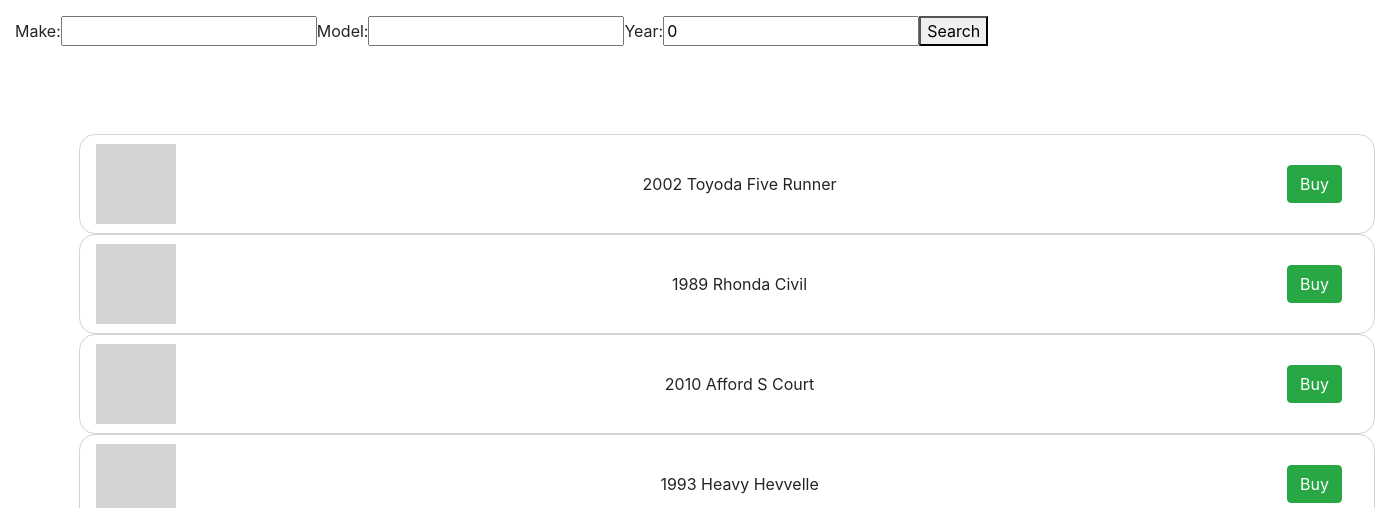
Scenario: Search › should limit list to make searched for
This screenshot has width=1392, height=525.
Type "TOY" into the field with test id "make-search" at point(189, 31), box [61,16,317,46]
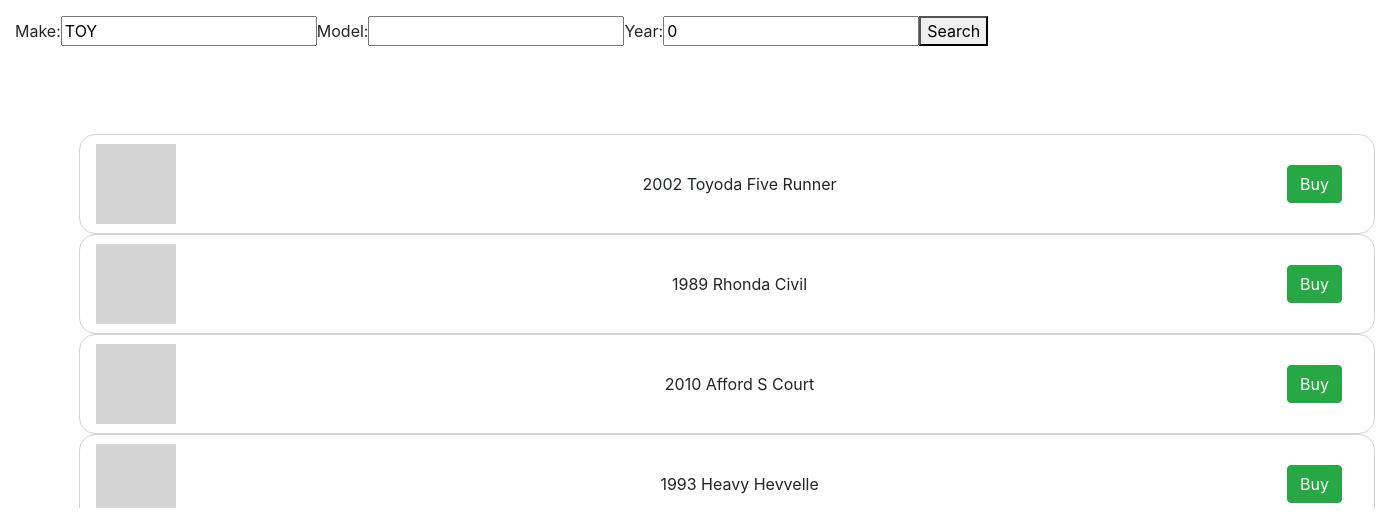
Click the button "Search" at point(954, 31), box [919,16,988,46]
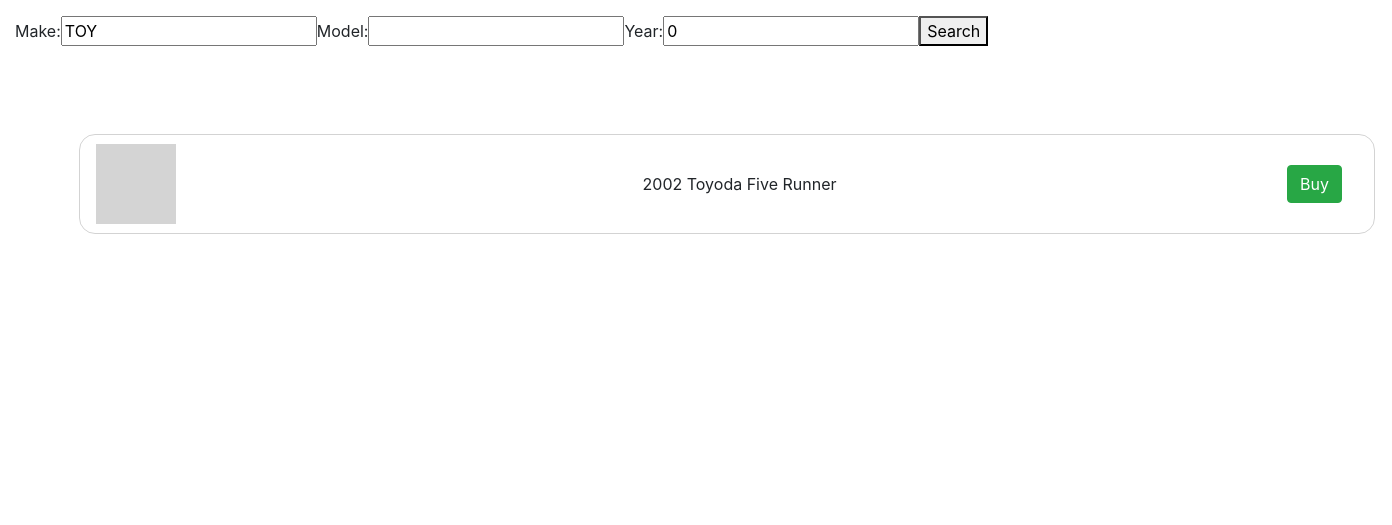
Now the number of elements with test id "list-item" is 1, box [79,134,1375,234]
